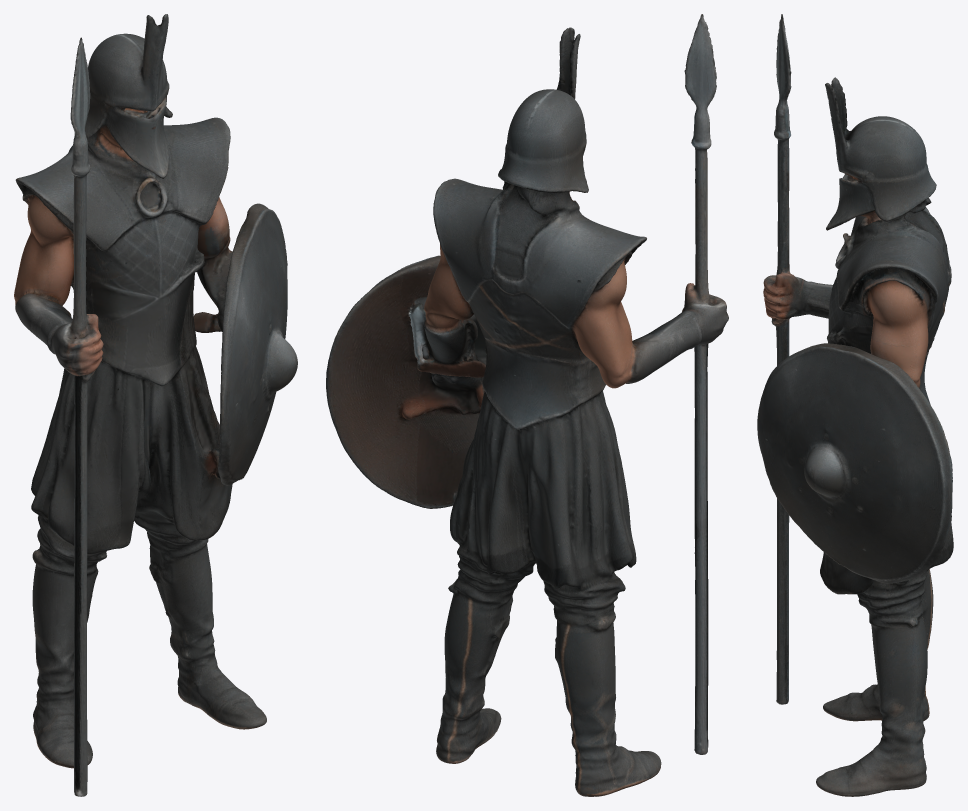
The model's file is Meshy_AI_Iron_Sentinel_0809085351_texture.fbx.
3 views of the same model, side by side, from view 1: azimuth 30°, elevation 25°; view 2: azimuth 150°, elevation 25°; view 3: azimuth 270°, elevation 25° (orthographic). The views are drawn at different scales.
Parts seen in each view (by area): view 1: Mesh_0; view 2: Mesh_0; view 3: Mesh_0.
Part boxes in pixels (x1,y1,x2,y2): Mesh_0: (14,14,297,796); Mesh_0: (326,14,728,796); Mesh_0: (757,14,953,796).
Bounding box in the file's own units: 87.75 × 200 × 51.65.
1 material, 1 textured.
